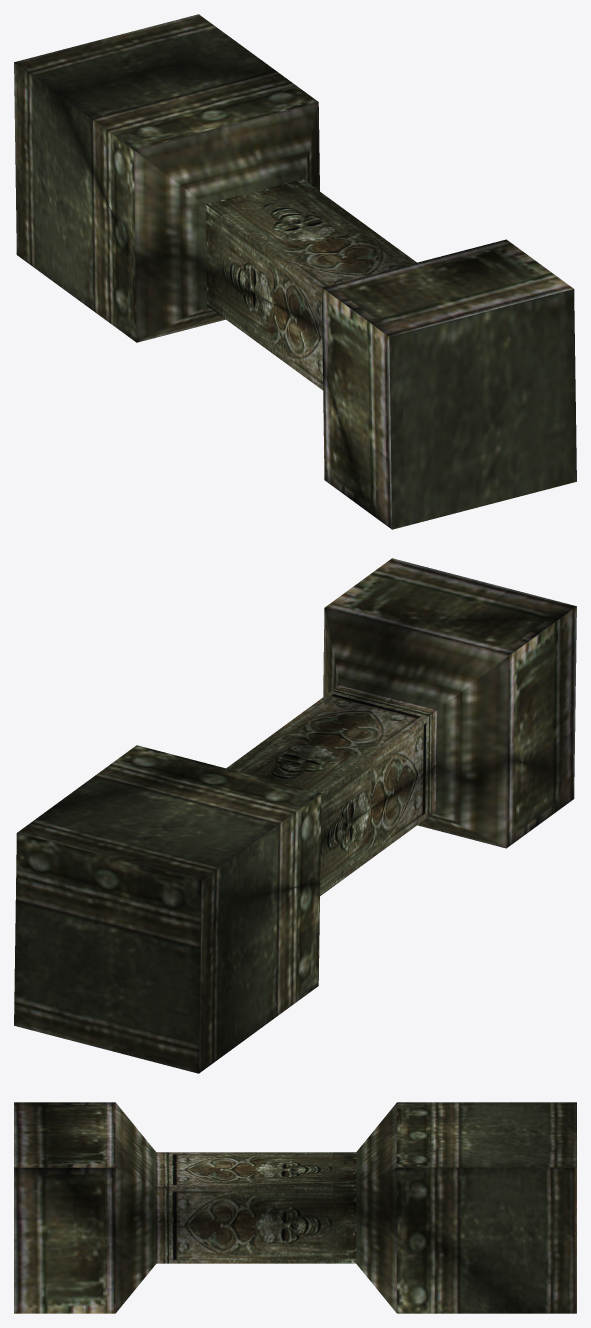
File: column_14.obj
3 renders of one model, top to bottom at view 1: azimuth 30°, elevation 25°; view 2: azimuth 150°, elevation 25°; view 3: azimuth 270°, elevation 25°, orthographic. The views are drawn at different scales.
Parts seen in each view (by area): view 1: (null); view 2: (null); view 3: (null).
Boxes of the visible parts, box(x1,y1,x2,y2) form: (null): box(14, 14, 576, 529); (null): box(14, 558, 576, 1073); (null): box(14, 1102, 576, 1313).
Bounding box in the file's own units: 0.8002 × 0.8002 × 2.77.
